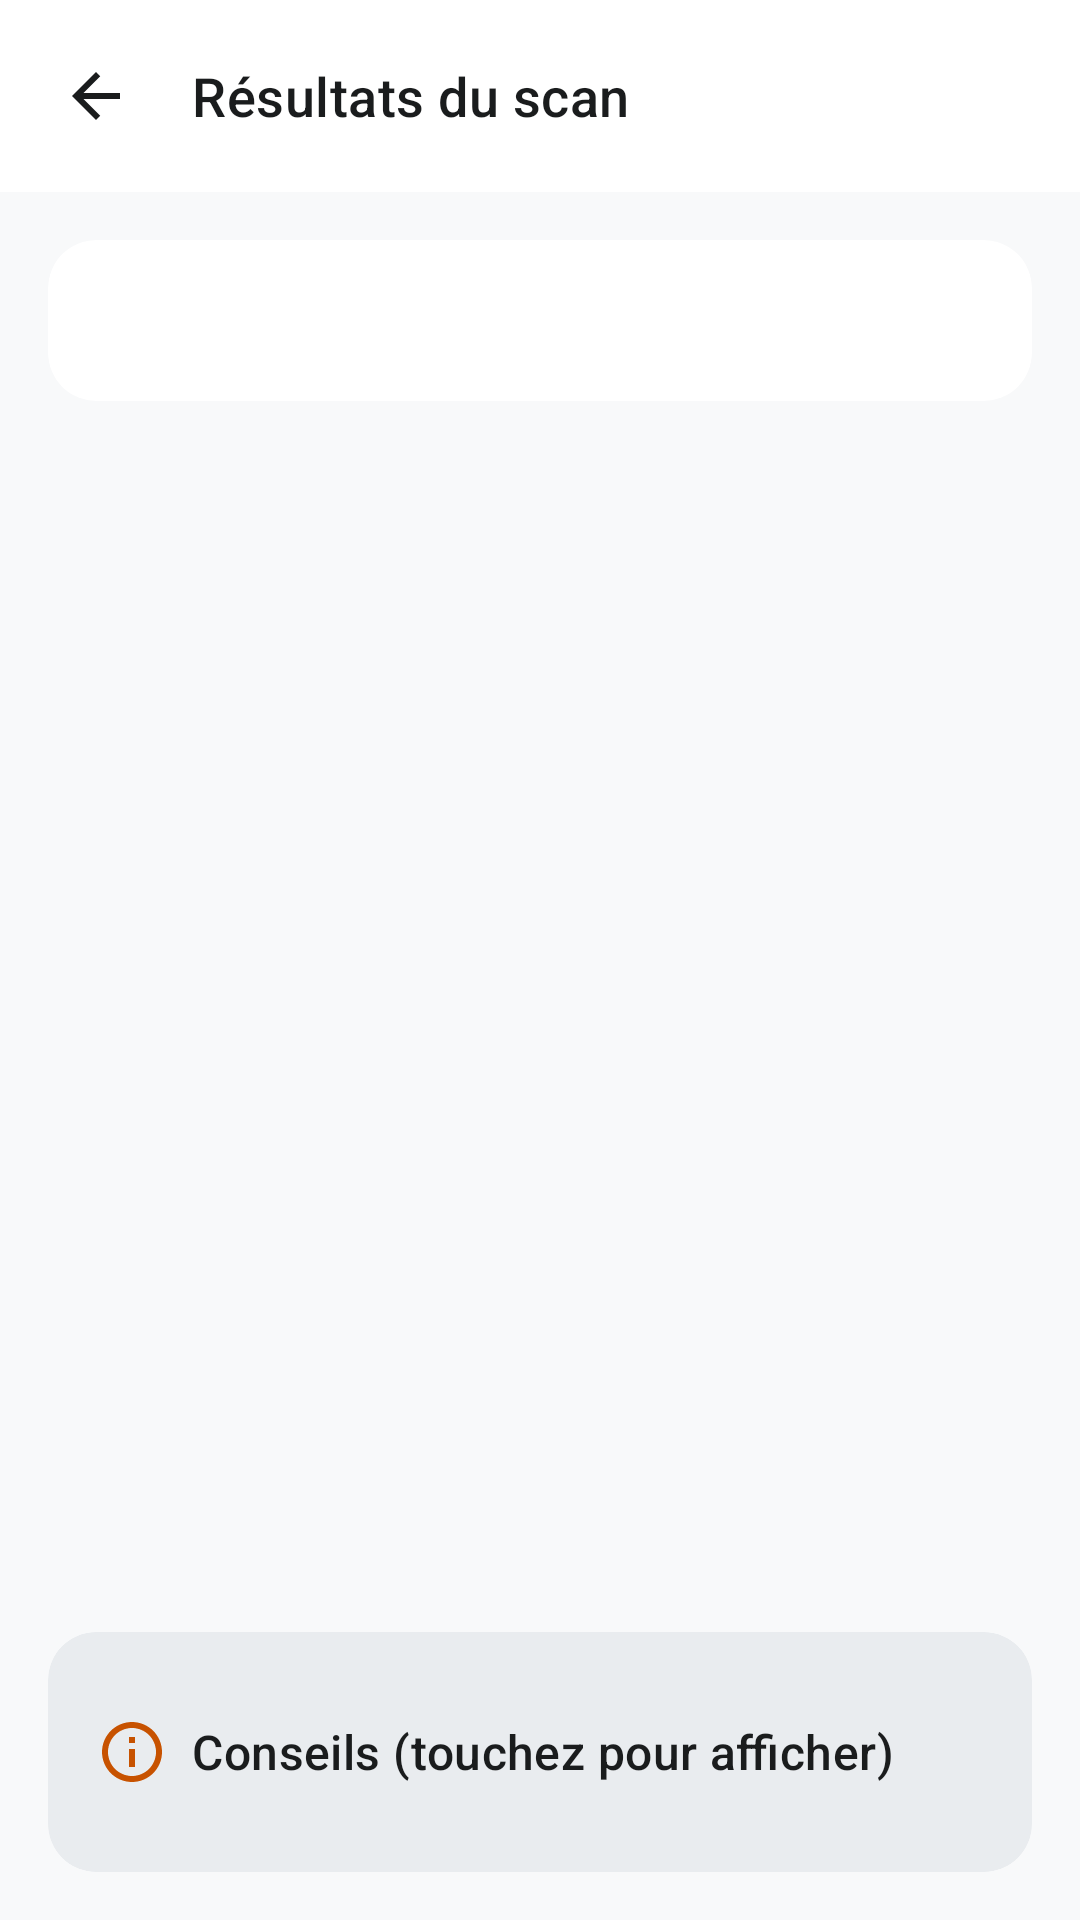

Icons on this 1080px×1920px Android screen, each with the point to tap as point (x, y):
info: point (132, 1752)
Retour: point (96, 96)
